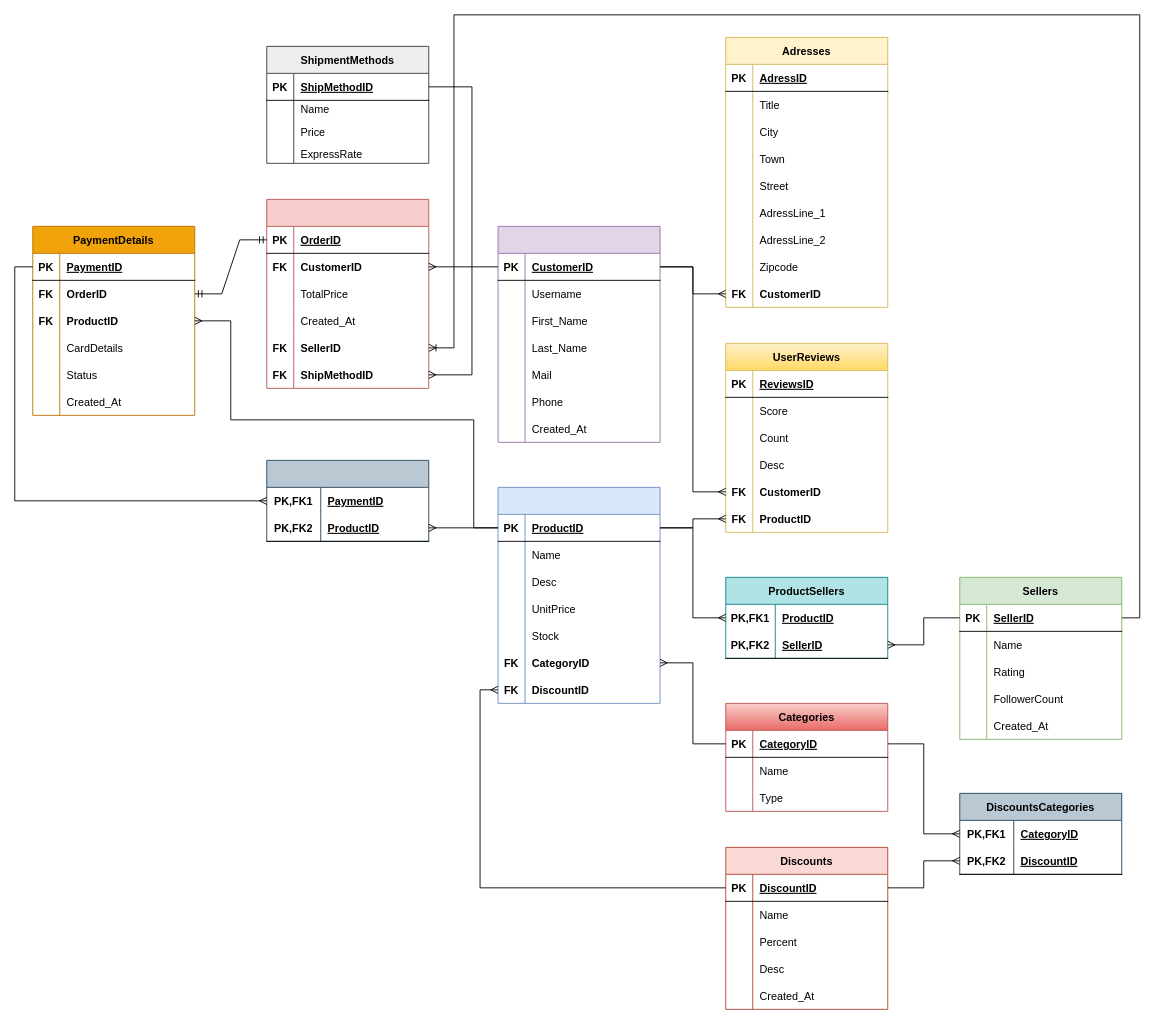
Image size: 1155x1024. Some labels were removed from this diagram. The shapes that lost their labels are listed below. From the top down, each one's box as (x1, y1, x2, y2) in pixels, then its label:
(266, 198, 429, 388): OrderDetails
(497, 225, 660, 442): Customers
(266, 459, 429, 541): PaymentProducts
(497, 486, 660, 703): Products
